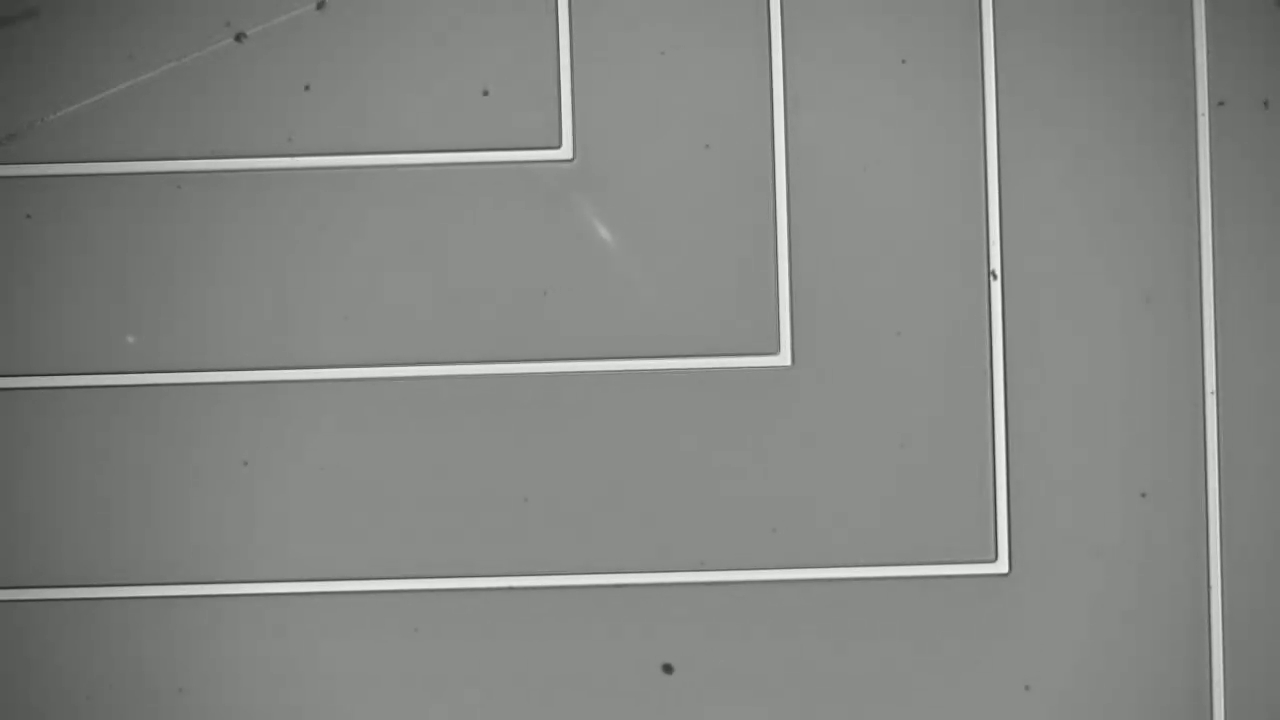stains_enbedded: (10, 1, 342, 144), (980, 257, 1012, 291)
